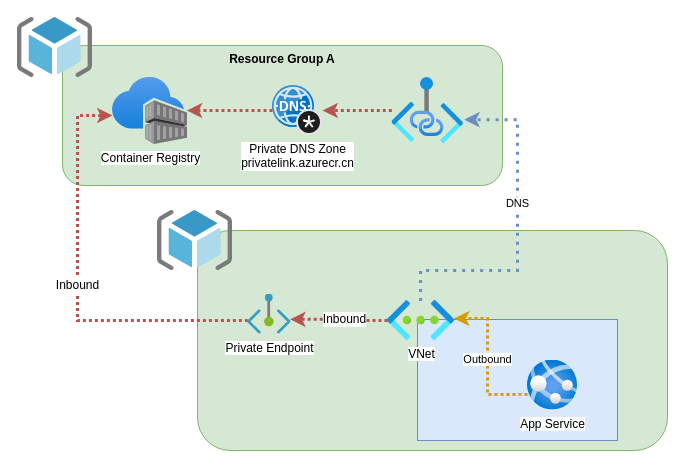
This 685x468 diagram has some shape labels left out. Here are the shapes that lost their labels. From the top down, the box of each, then its label:
(391, 77, 463, 143): private link
(196, 230, 668, 450): Resource Group B
(416, 318, 618, 440): Virtual Network
